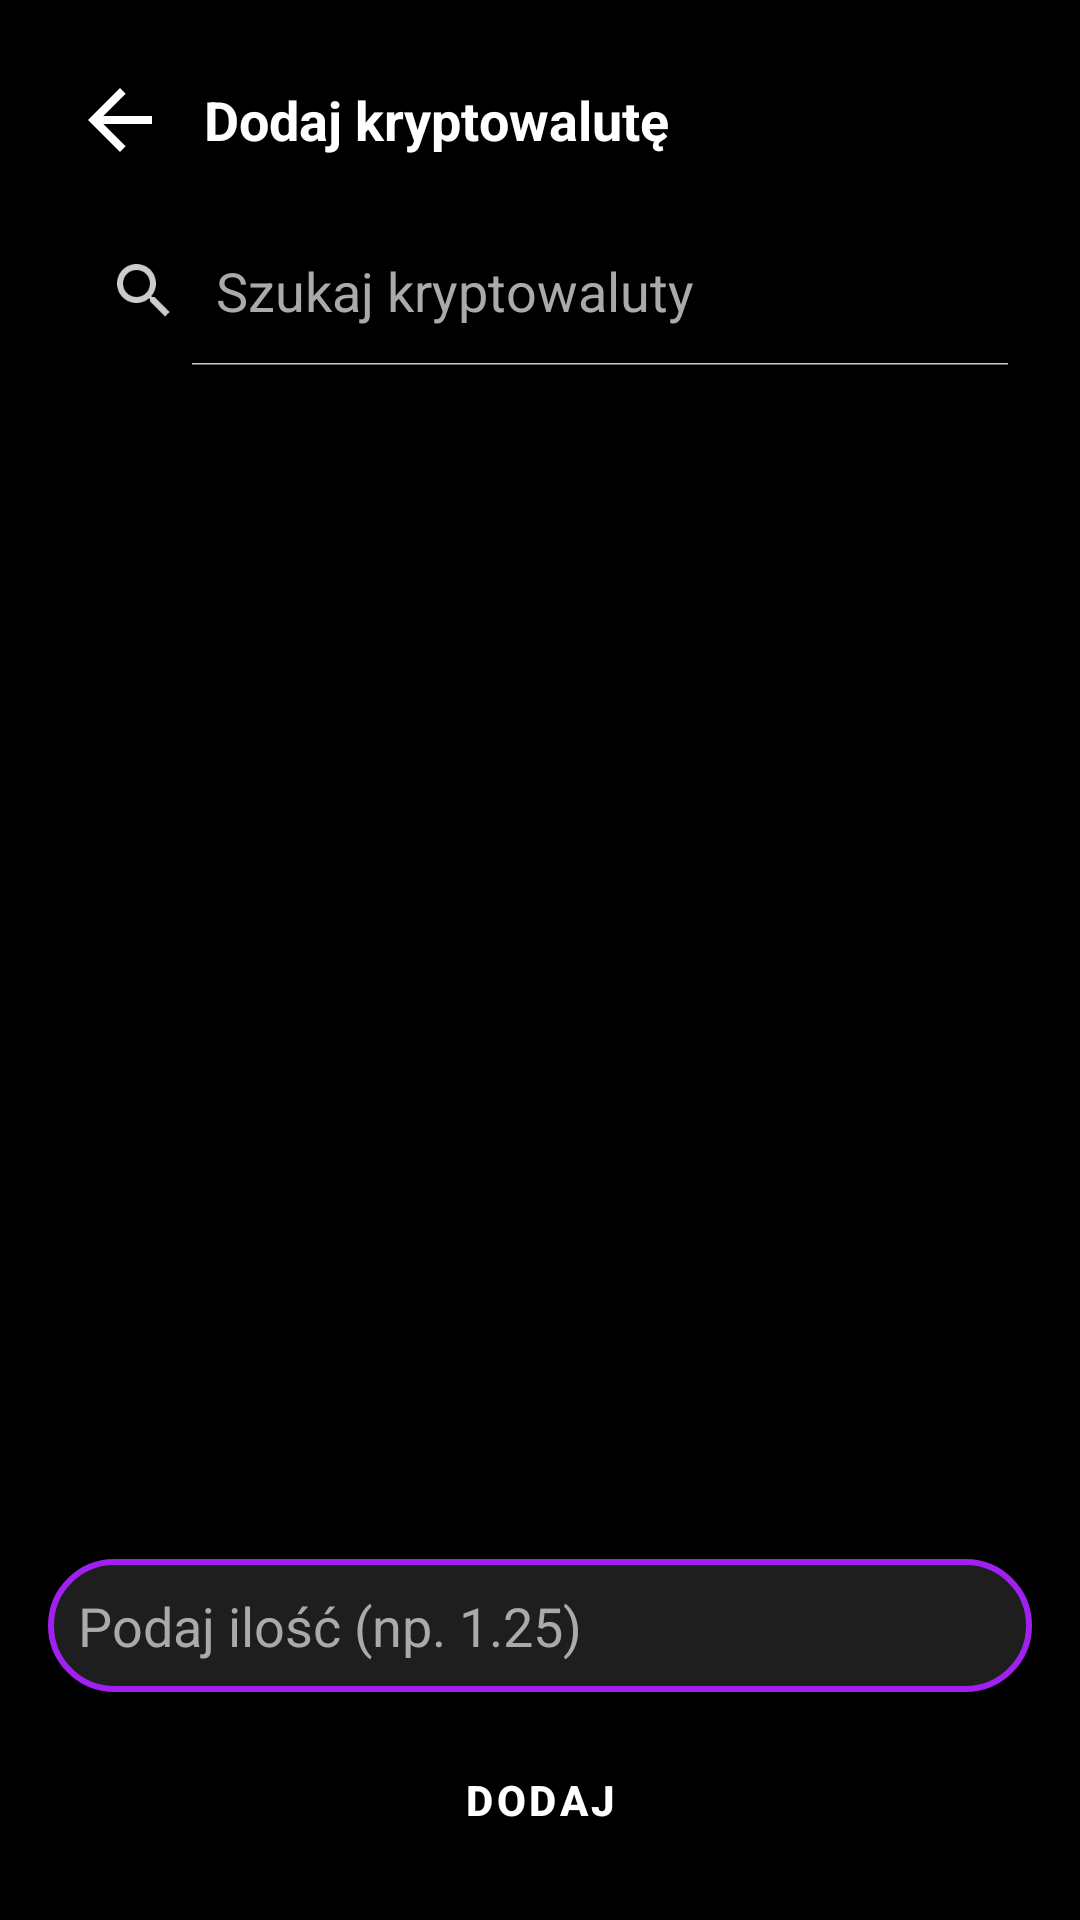

Icons on this 1080px x 1920px Android screen, each with the point to tap as [x,y]:
Wróć: [120,120]
